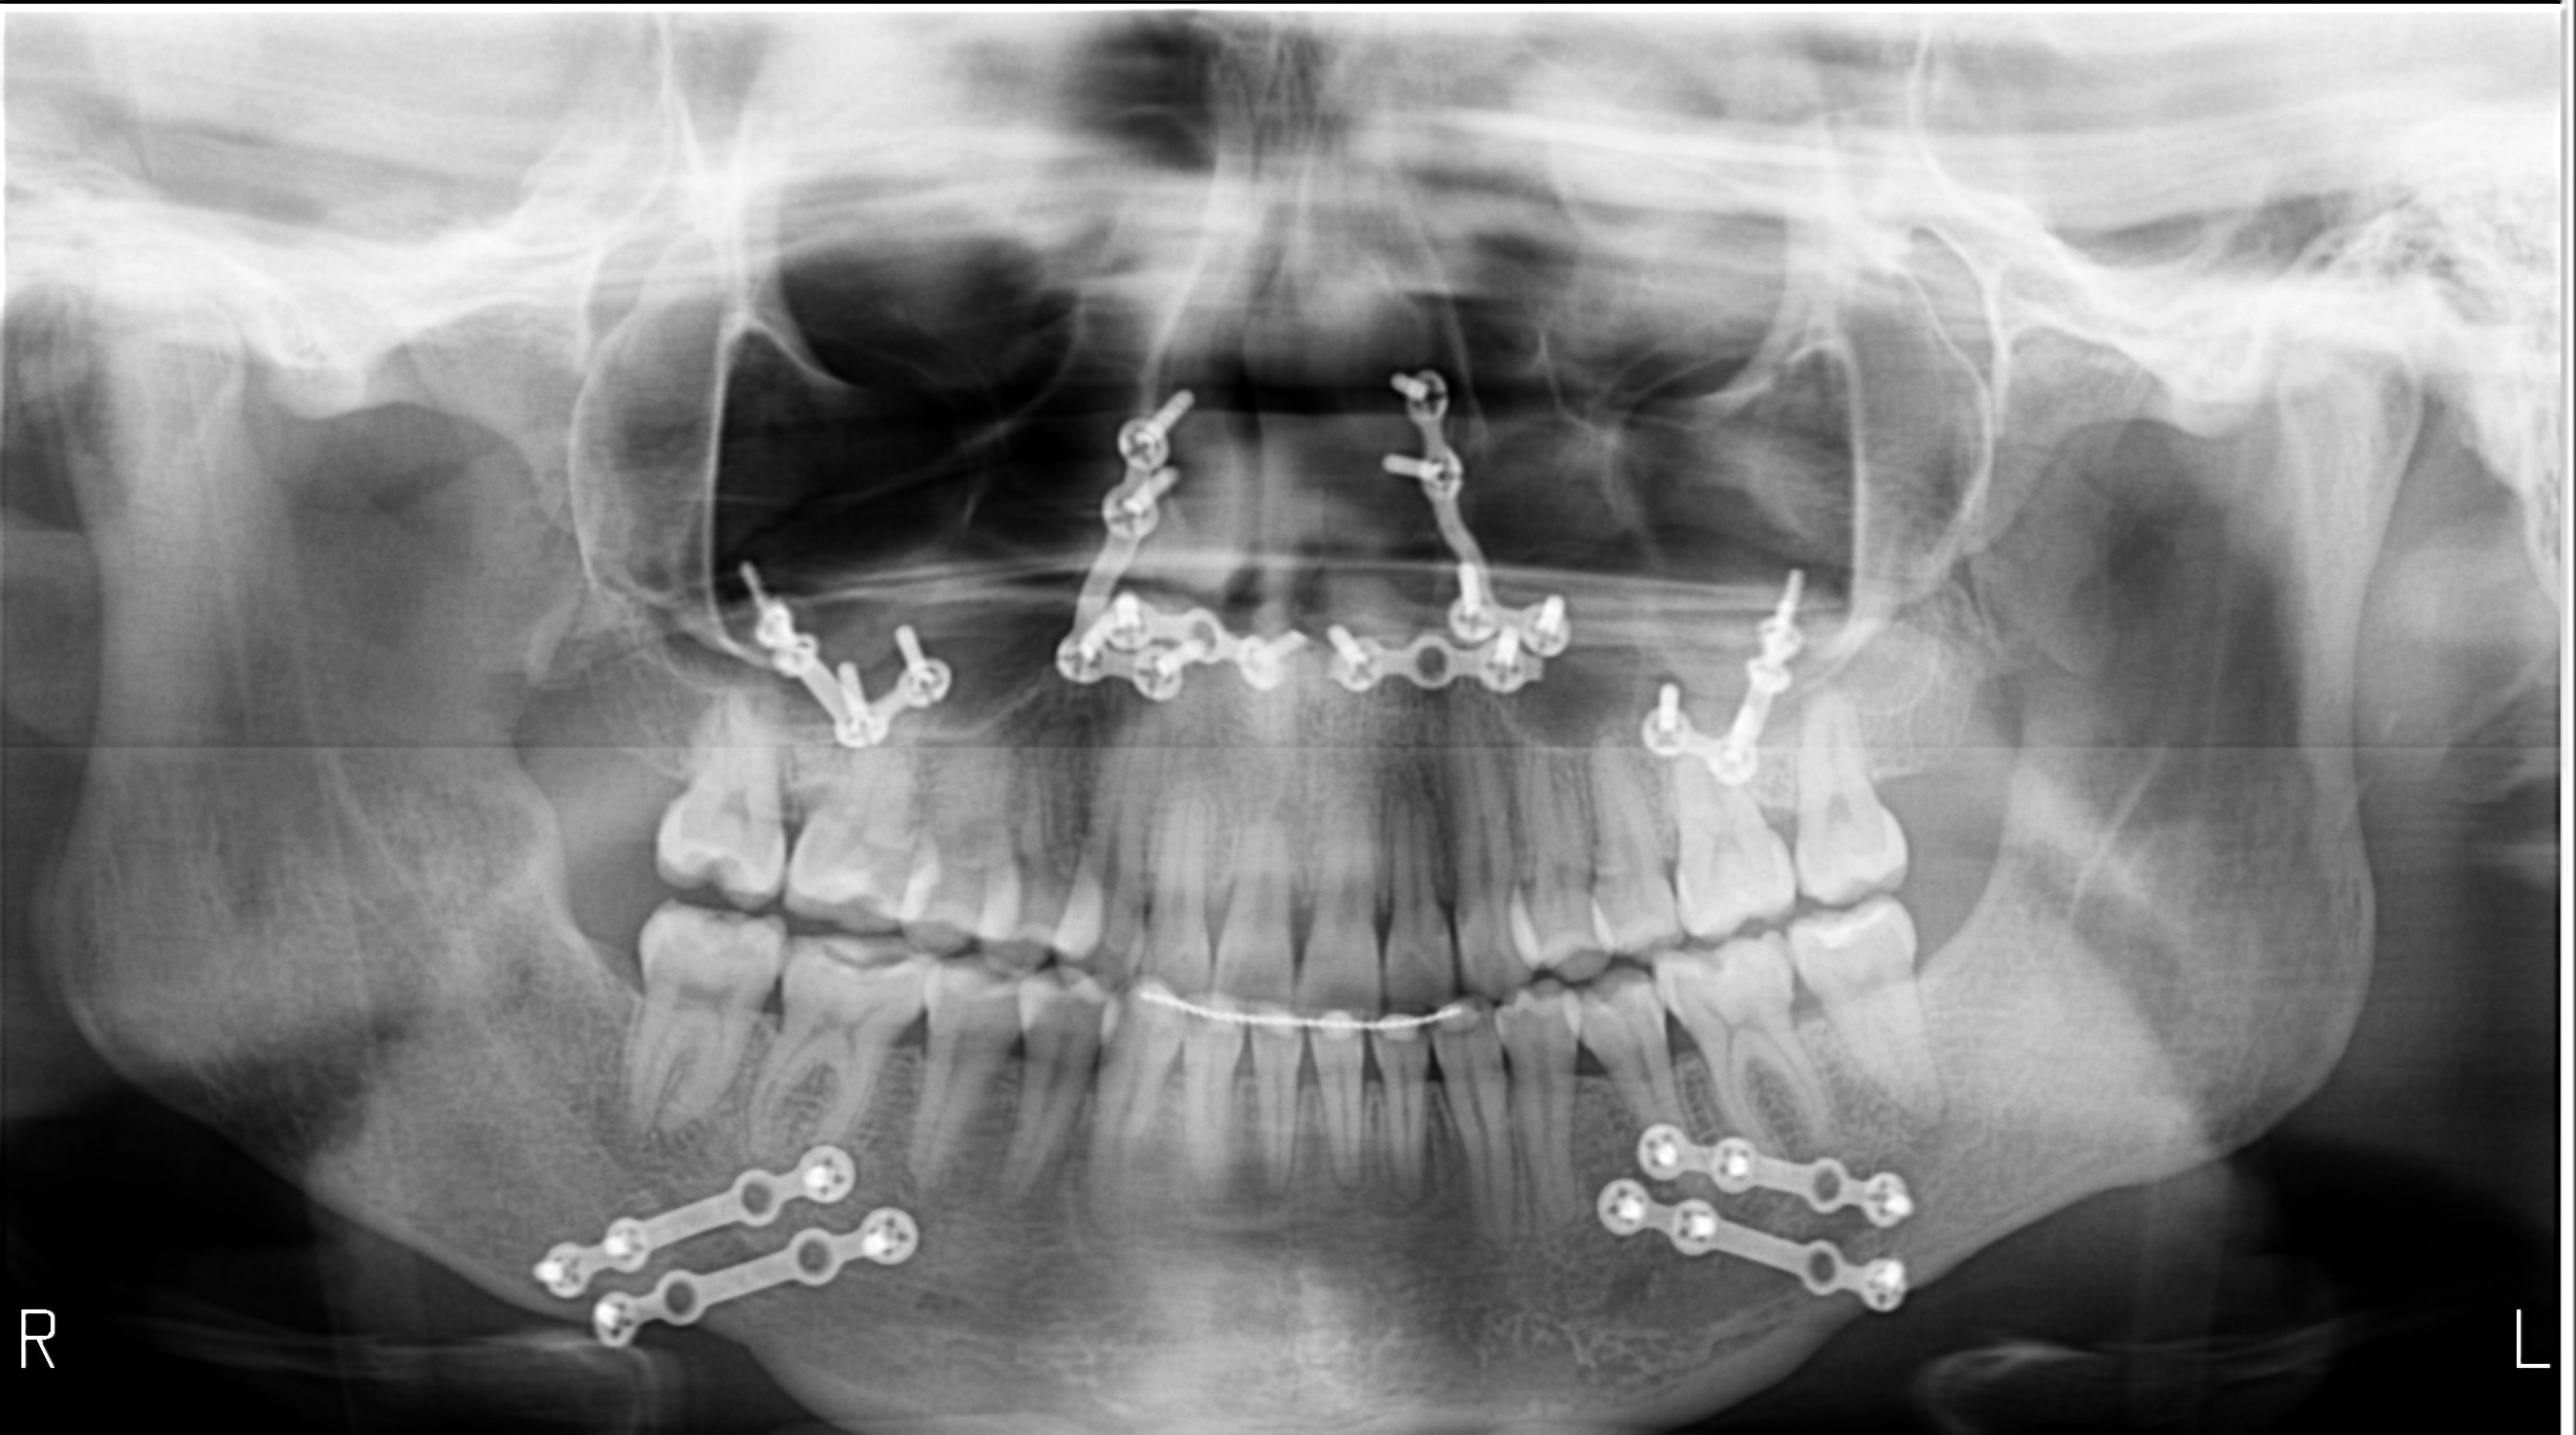SRD: (1039, 383, 1320, 721), (1368, 325, 1647, 652), (553, 1165, 949, 1394), (491, 1096, 890, 1306), (1581, 548, 1845, 827), (1564, 1150, 1956, 1336), (701, 530, 977, 756), (1611, 1087, 1961, 1241), (1323, 583, 1574, 746)
